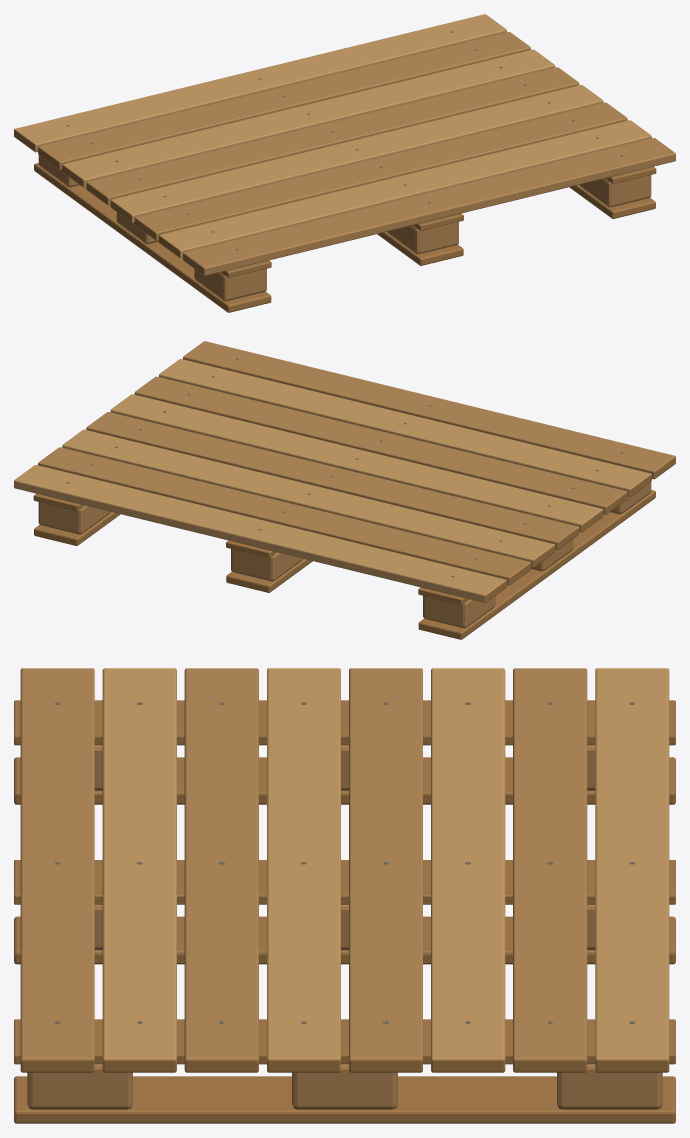
File: pallet.glb
3 renders of one model, top to bottom at view 1: azimuth 30°, elevation 25°; view 2: azimuth 150°, elevation 25°; view 3: azimuth 270°, elevation 25°, orthographic. The views are drawn at different scales.
Visible parts, largest first — view 1: pallet__material_03, pallet__material_02, pallet__material_01, pallet__material_00; view 2: pallet__material_02, pallet__material_03, pallet__material_01, pallet__material_00; view 3: pallet__material_02, pallet__material_03, pallet__material_01, pallet__material_00.
Part boxes in pixels (x1=…): pallet__material_03: x1=38, y1=32, x2=675, y2=275; pallet__material_02: x1=14, y1=14, x2=651, y2=258; pallet__material_01: x1=34, y1=163, x2=656, y2=312; pallet__material_00: x1=38, y1=155, x2=651, y2=301; pallet__material_02: x1=14, y1=359, x2=651, y2=602; pallet__material_03: x1=38, y1=341, x2=675, y2=585; pallet__material_01: x1=33, y1=490, x2=655, y2=639; pallet__material_00: x1=38, y1=482, x2=651, y2=628; pallet__material_02: x1=102, y1=668, x2=669, y2=1072; pallet__material_03: x1=20, y1=668, x2=587, y2=1072; pallet__material_01: x1=14, y1=700, x2=675, y2=1123; pallet__material_00: x1=27, y1=745, x2=662, y2=1109.
Bounding box in the file's own units: 1.4 × 0.14 × 1.
